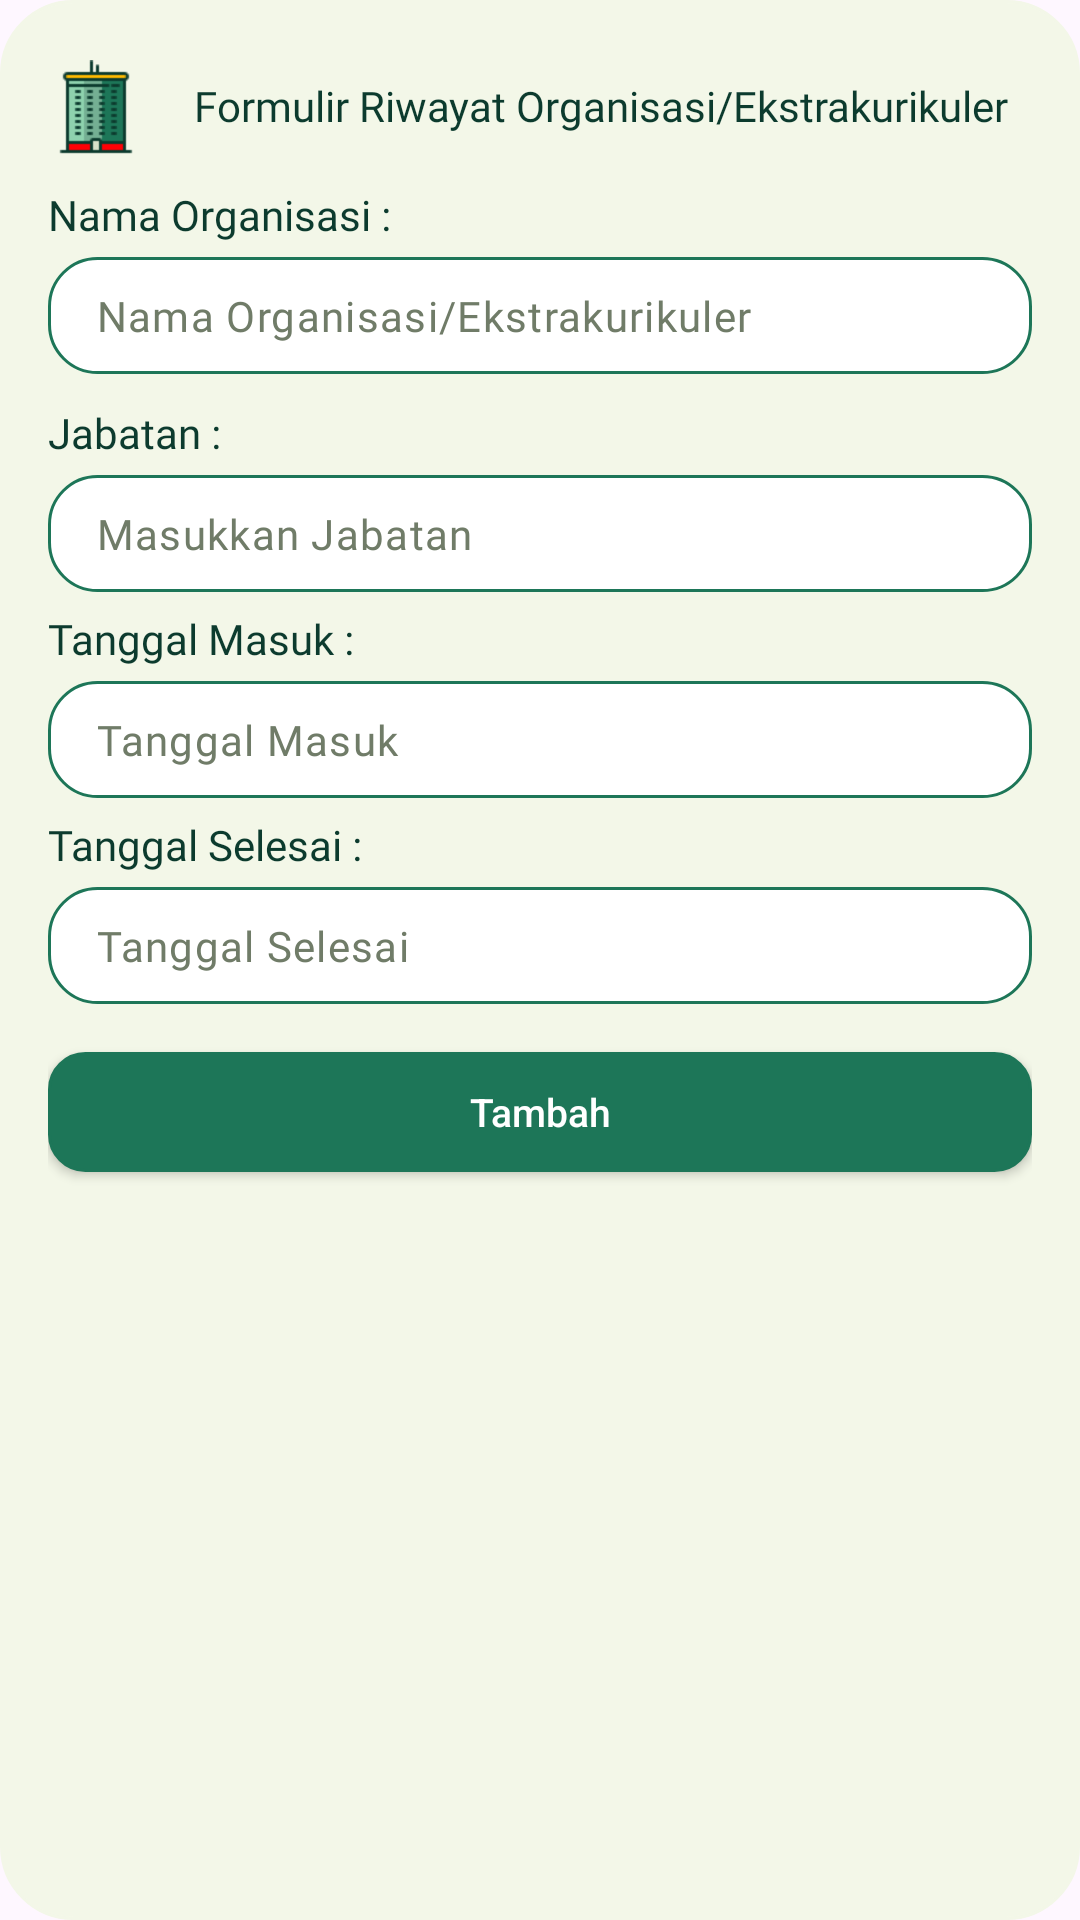

Icons on this 1080px×1920px Android screen, each with the point to tap as (x,y):
organization: (96,107)
